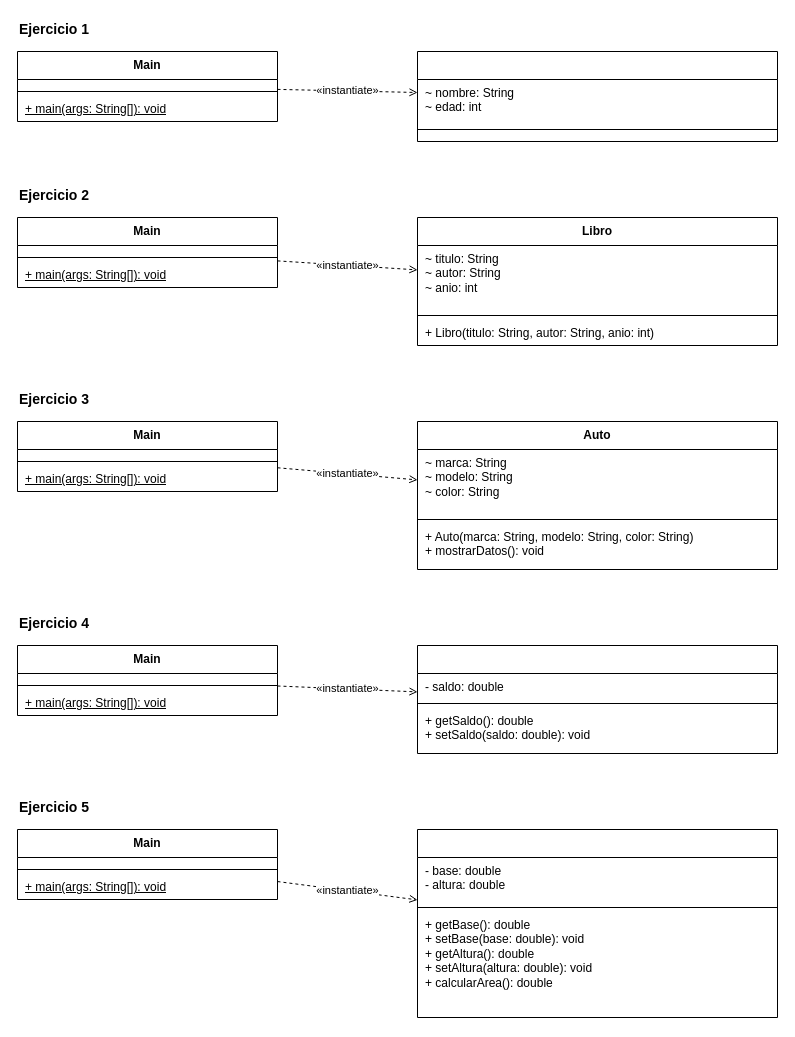
Some shapes in this 795 by 1037 pixel diagram are drawn without their labels. The box of each missing label's shape, as (x1, y1, x2, y2) in pixels:
CuentaBancaria: (416, 644, 778, 754)
Persona: (416, 50, 778, 142)
Rectangulo: (416, 828, 778, 1018)
